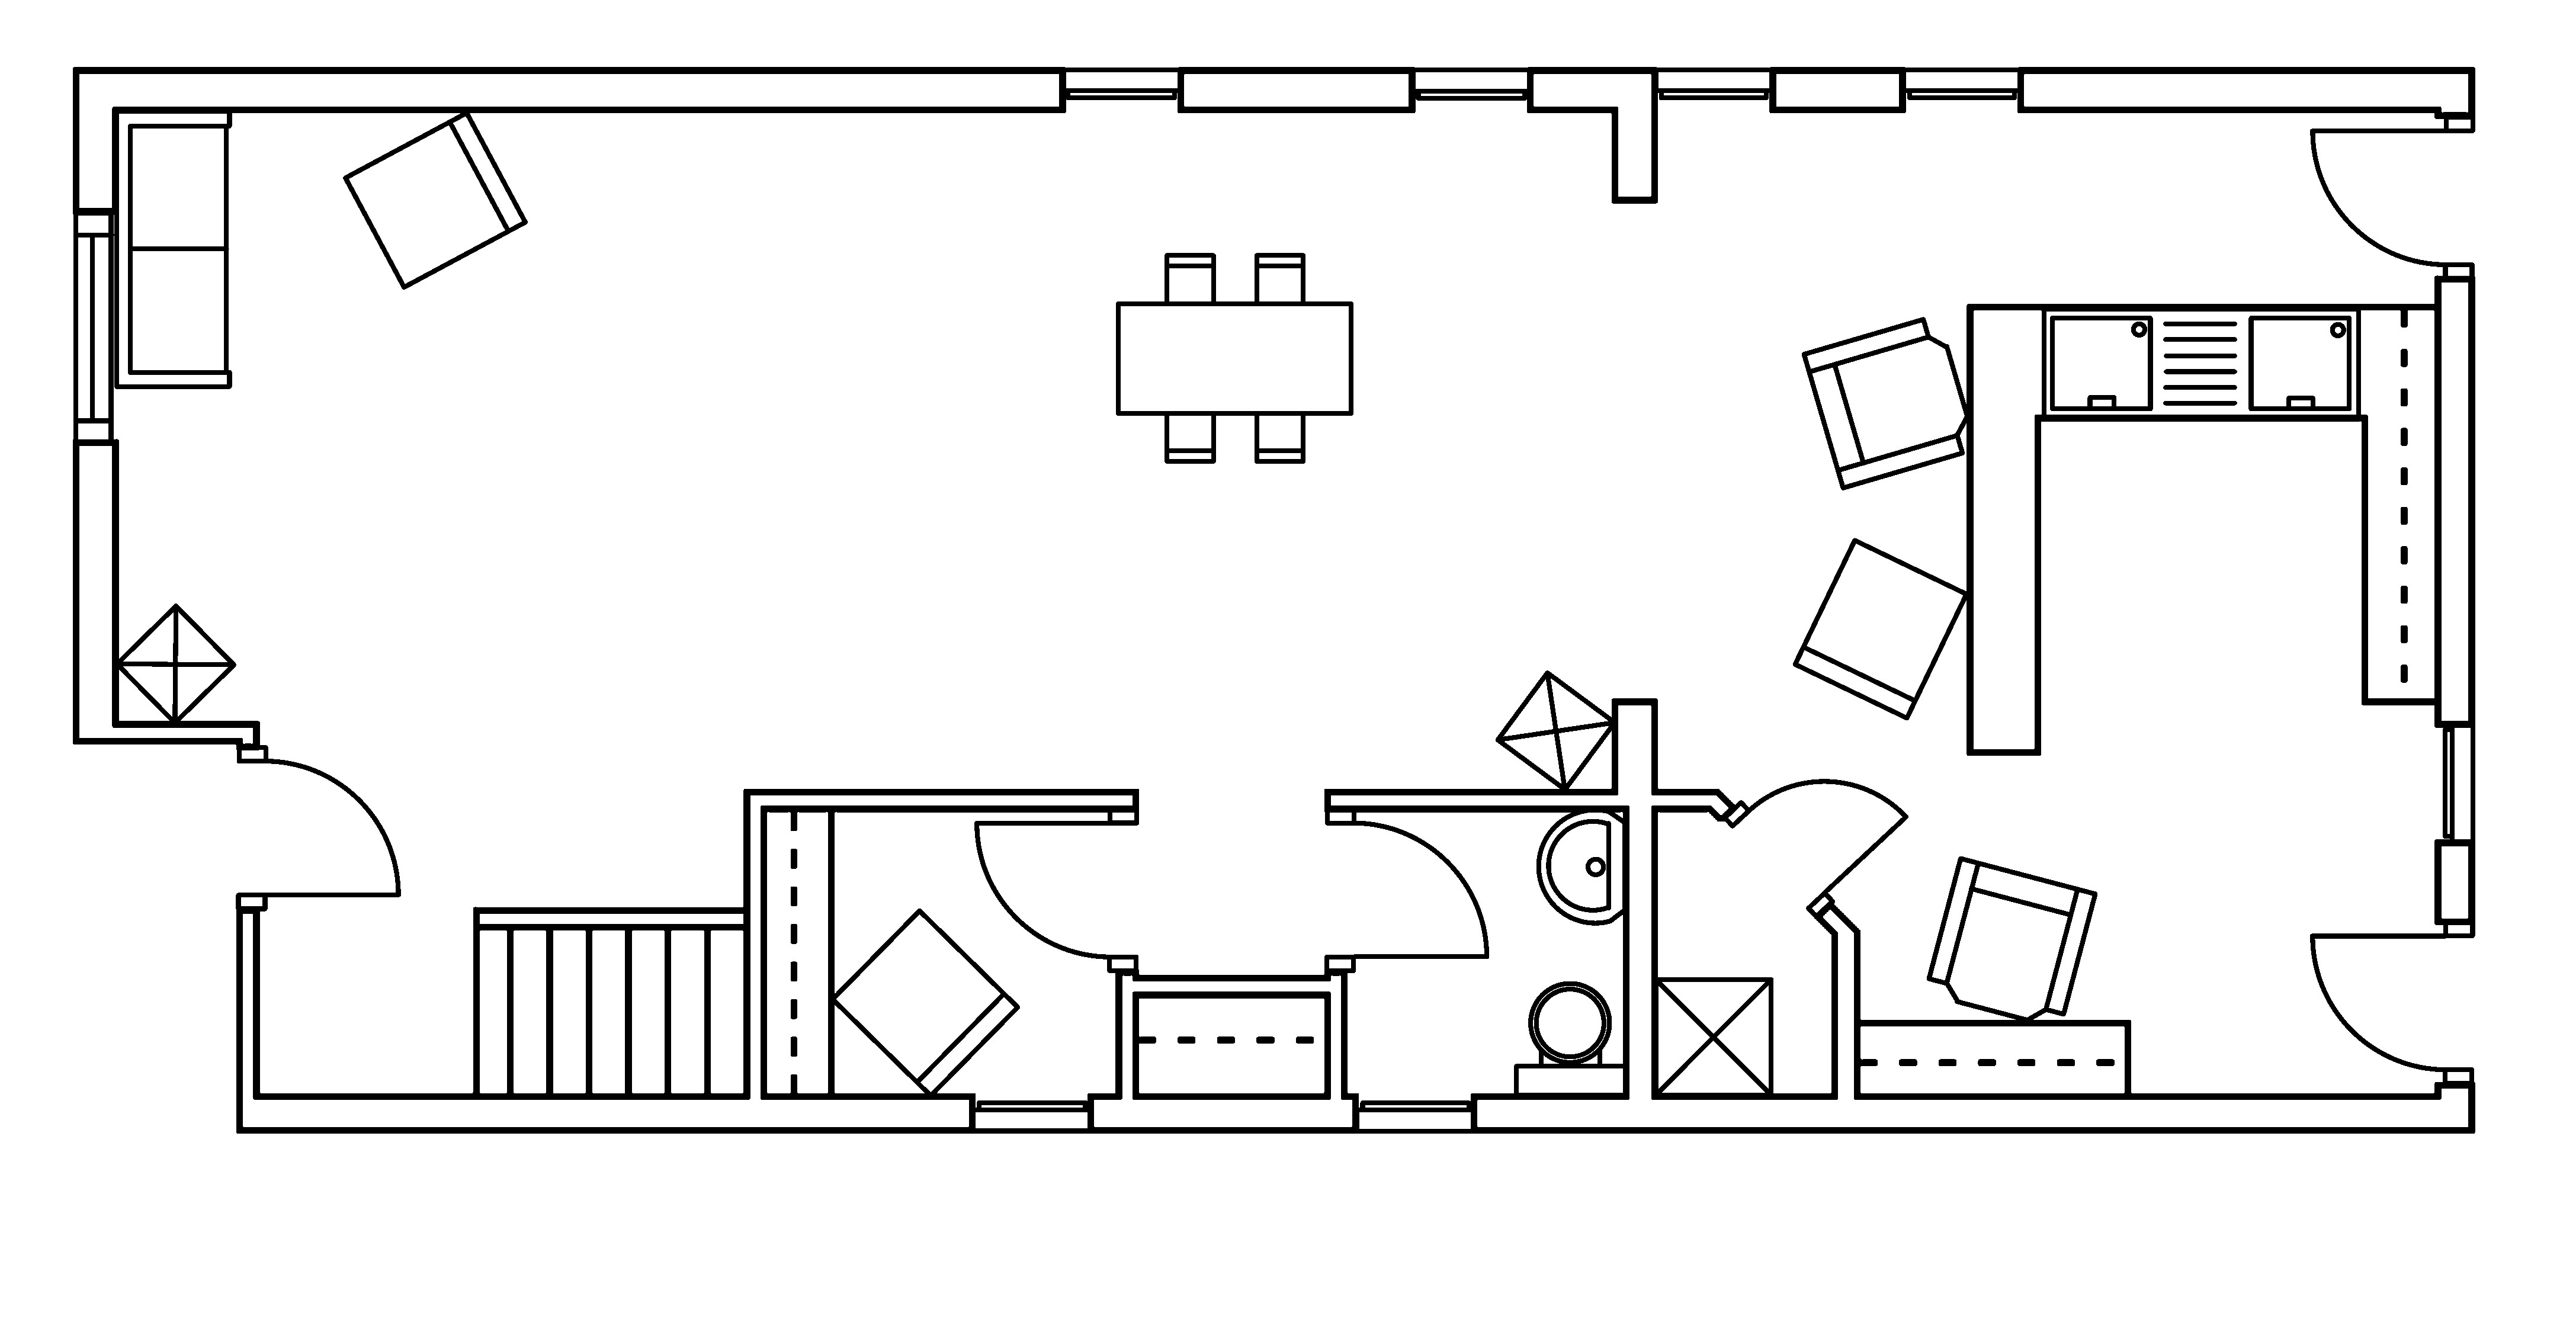armchair: (1801, 316, 1971, 490), (1925, 855, 2097, 1023)
coffee_table: (1493, 670, 1618, 792), (113, 602, 237, 725), (1651, 976, 1774, 1097)
dining_table: (1115, 252, 1354, 464)
large_sink: (1513, 981, 1628, 1097)
large_sofa: (113, 108, 232, 389)
small_sink: (1535, 808, 1628, 925)
small_sofa: (829, 907, 1021, 1099), (341, 109, 528, 289), (1791, 537, 1969, 720)
twin_sink: (2040, 305, 2361, 421)
